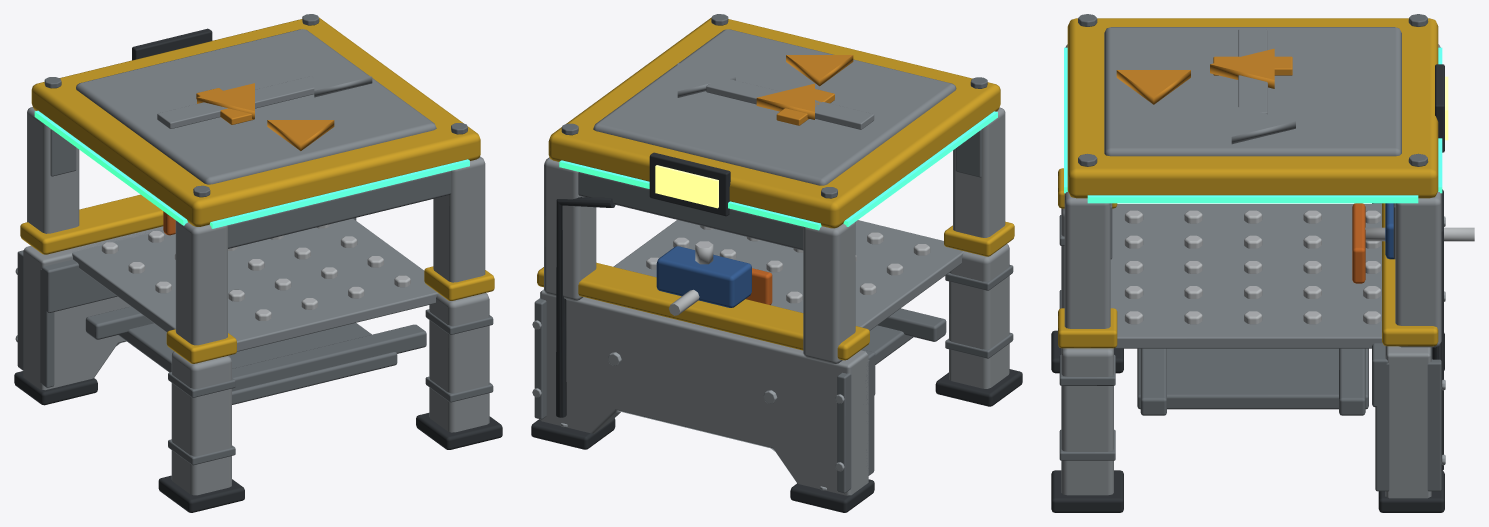
The model's file is fw_filter.glb.
3 views of the same model, side by side, from view 1: azimuth 30°, elevation 25°; view 2: azimuth 150°, elevation 25°; view 3: azimuth 270°, elevation 25° (orthographic). The views are drawn at different scales.
Parts seen in each view (by area): view 1: block.030, block.029, block.019, prism, block.007, block.012, block.021, block.020, block.025, block.031, block.017, block.023 (+21 smaller); view 2: prism, block.030, block.029, block.019, block.002, block.007, block.023, block.027, block.032, block.021, block.037, pipe (+21 smaller); view 3: block.019, block.030, block.029, block.020, block.012, prism, block.027, block.025, block.005, led.003, block.002, block.013 (+19 smaller).
Boxes of the visible parts, <box> form: block.030: <box>76,29,436,184</box>; block.029: <box>31,17,480,226</box>; block.019: <box>72,218,438,351</box>; prism: <box>23,226,163,390</box>; block.007: <box>171,351,231,495</box>; block.012: <box>429,293,489,432</box>; block.021: <box>175,220,227,345</box>; block.020: <box>118,323,397,404</box>; block.025: <box>433,156,485,282</box>; block.031: <box>227,171,451,248</box>; block.017: <box>232,324,426,391</box>; block.023: <box>27,107,79,233</box>; prism: <box>540,289,868,495</box>; block.030: <box>593,29,956,185</box>; block.029: <box>548,17,1000,228</box>; block.019: <box>613,220,963,330</box>; block.002: <box>537,262,869,360</box>; block.007: <box>949,244,1009,388</box>; block.023: <box>803,222,855,363</box>; block.027: <box>544,157,596,300</box>; block.032: <box>578,172,803,250</box>; block.021: <box>953,107,1005,237</box>; block.037: <box>656,246,751,307</box>; pipe: <box>556,197,615,417</box>; block.019: <box>1110,204,1382,348</box>; block.030: <box>1104,27,1401,156</box>; block.029: <box>1067,18,1438,198</box>; block.020: <box>1137,348,1368,409</box>; block.012: <box>1061,348,1113,495</box>; prism: <box>1385,346,1431,498</box>; block.027: <box>1395,191,1441,347</box>; block.025: <box>1064,191,1110,328</box>; block.005: <box>1375,359,1441,491</box>; led.003: <box>1087,195,1418,203</box>; block.002: <box>1382,203,1438,346</box>; block.013: <box>1051,470,1123,512</box>.
Bounding box in the file's own units: 1.22 × 1.18 × 1.28.
